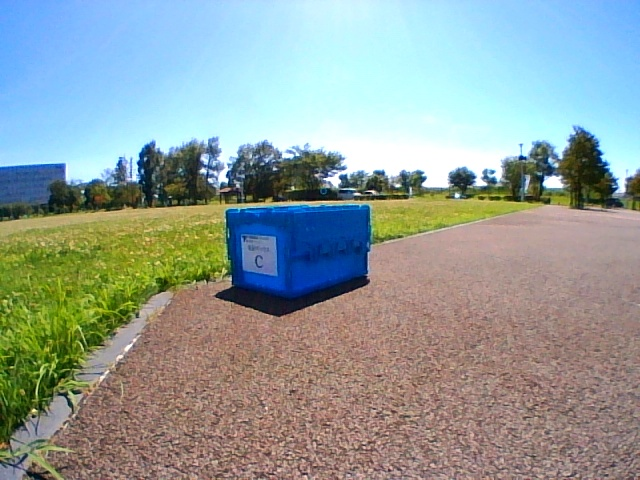blue_box: (227, 206, 371, 298)
tag_c: (244, 238, 275, 272)
